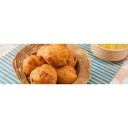bonda: (41, 44, 70, 64), (30, 66, 57, 84), (24, 54, 39, 76), (58, 65, 76, 82)
